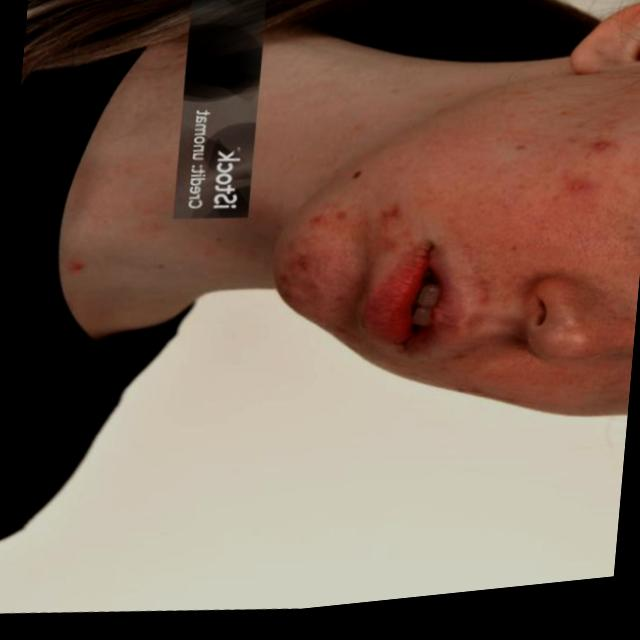papule: (373, 210, 409, 233), (563, 186, 596, 208), (293, 256, 318, 277), (326, 214, 350, 232), (62, 259, 88, 274), (303, 220, 325, 235)
pustule: (588, 146, 617, 164)
